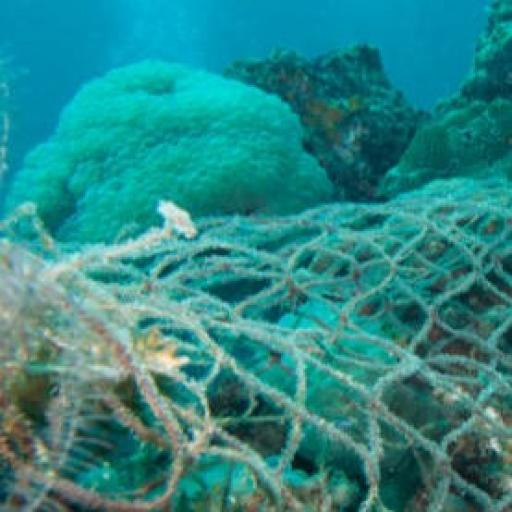net: (2, 202, 512, 510)
